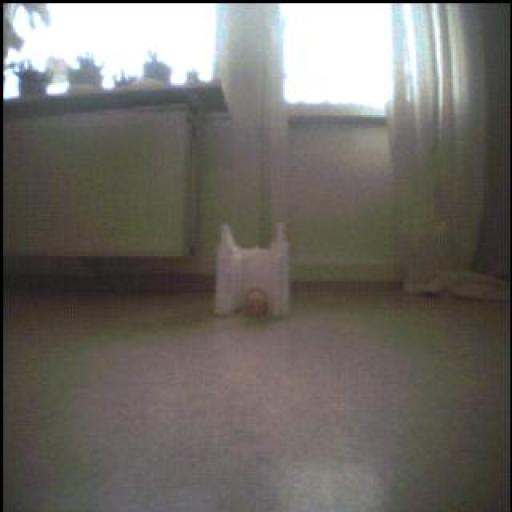Basket: (242, 285, 274, 316)
